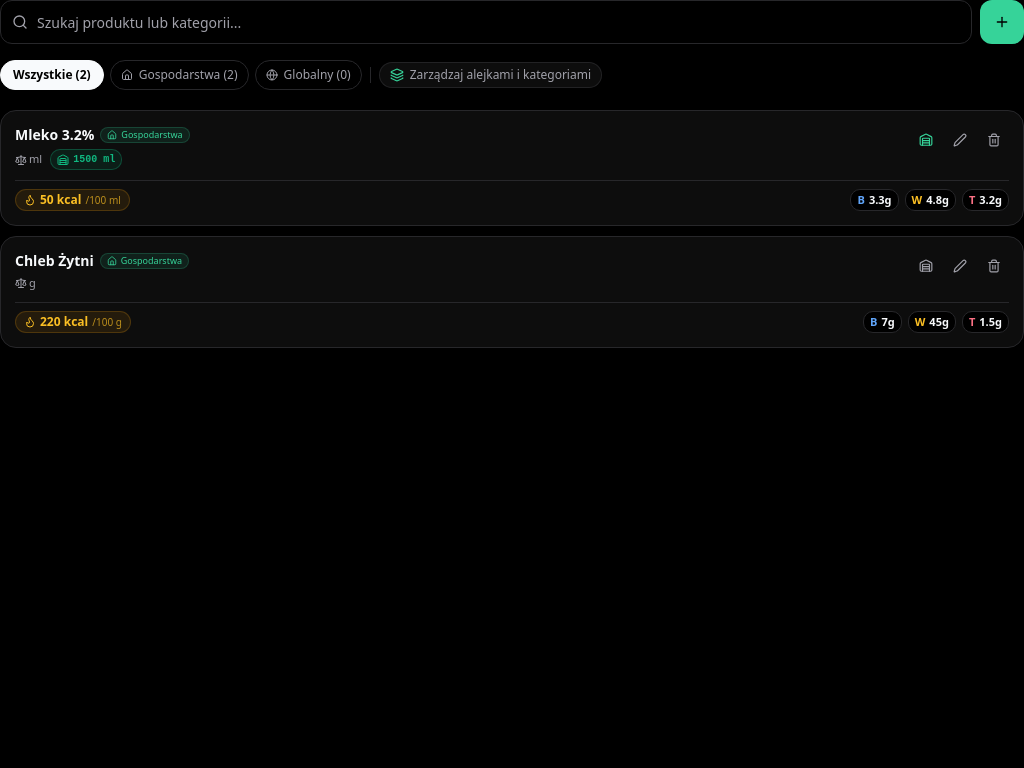
Scenario: ProductsView - Pantry Stock Badges & Quick Action (ADR-008 Phase 4) › Flow 02: clicking pantry icon button opens AddPantryItemDialog prefilled with the product
This screenshot has width=1024, height=768.
expect the heading "Mleko 3.2%" is shown: met, box [15,125,94,145]
Click the button titled "Zarządzaj w spiżarni" at (926,140), box [911,125,941,155]
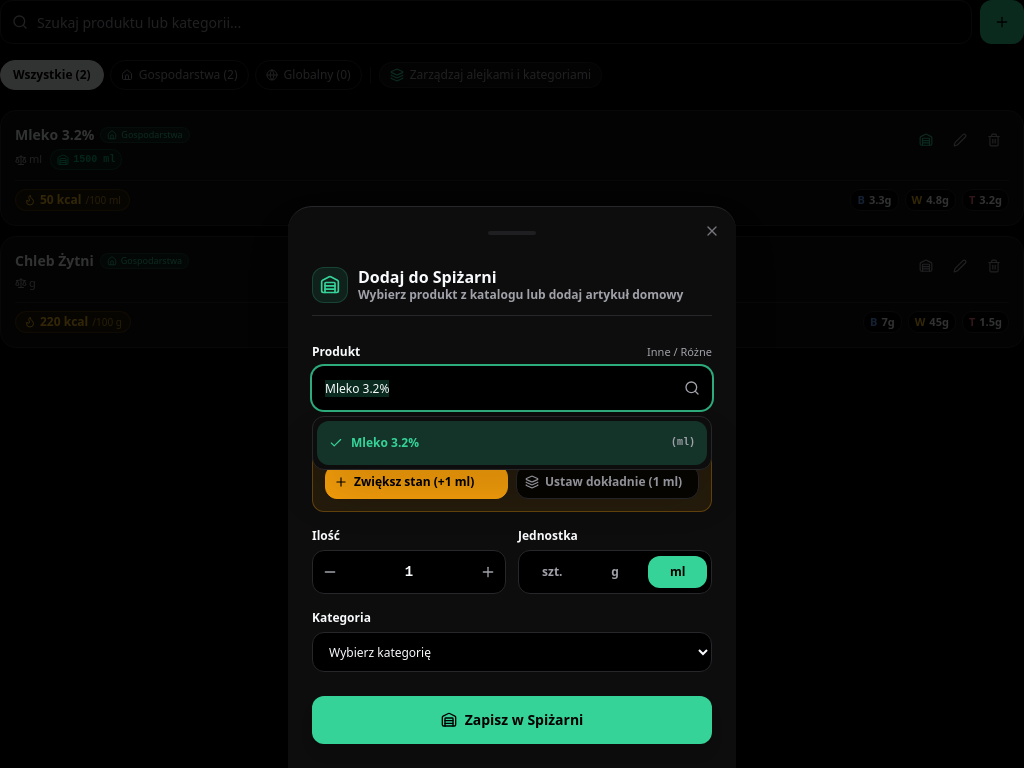
expect the heading "Dodaj do Spiżarni" is shown: met, box [358,266,497,288]
